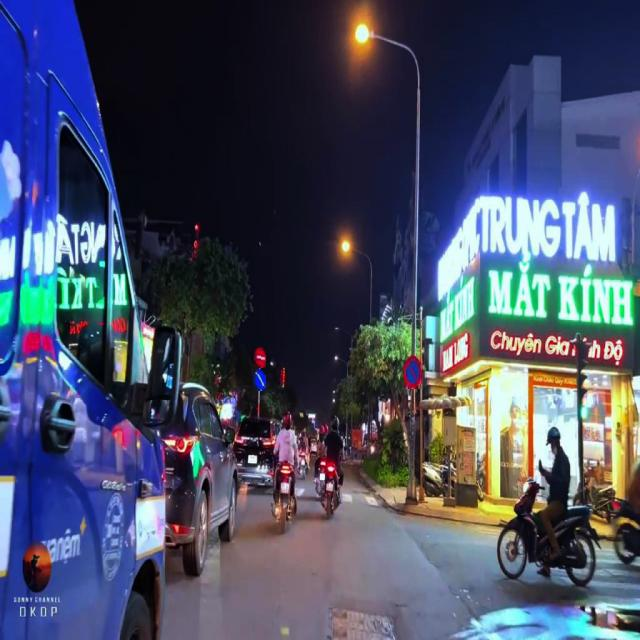cam_do_xe: (404, 354, 423, 389)
cam_xe_di_nguoc_chieu: (254, 348, 266, 368)
huong_phai_di_vuot_chuong_ngai_vat_phai: (253, 368, 266, 391)
